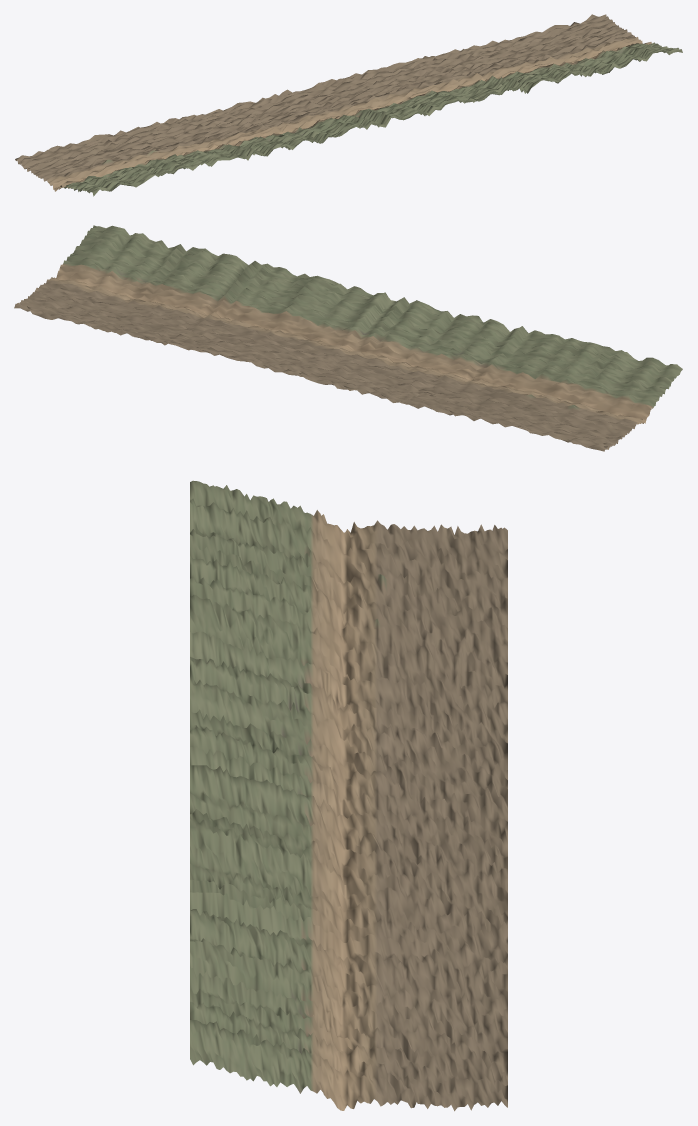
Rendered from fringe_terrain.glb.
3 renders of one model, top to bottom at view 1: azimuth 30°, elevation 25°; view 2: azimuth 150°, elevation 25°; view 3: azimuth 270°, elevation 25°, orthographic. The views are drawn at different scales.
Visible parts, largest first — view 1: FringeTerrain; view 2: FringeTerrain; view 3: FringeTerrain.
Part boxes in pixels (x1,y1,x2,y2): FringeTerrain: (15, 14, 682, 196); FringeTerrain: (14, 225, 682, 451); FringeTerrain: (190, 480, 507, 1111).
Bounding box in the file's own units: 60 × 3.23 × 14.
